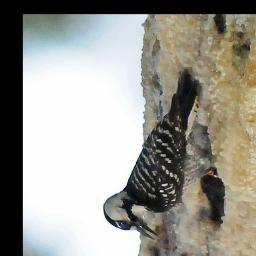Woodpecker: (100, 68, 217, 240)
